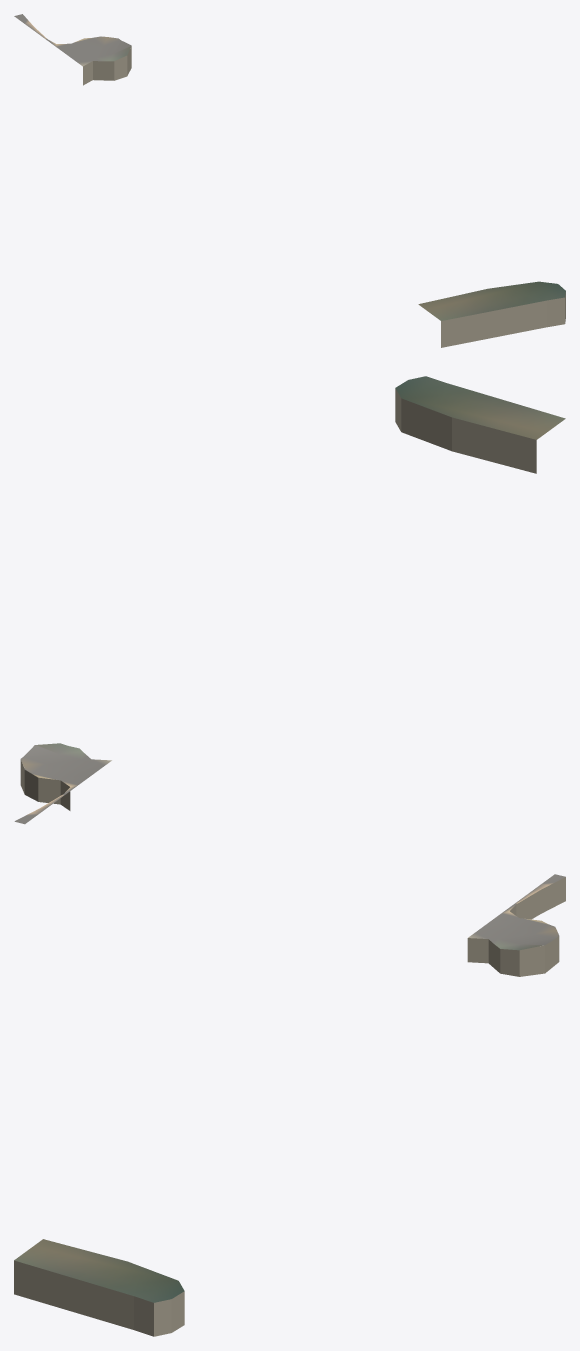
Rendered from terrain.glb.
3 views of the same model, one above another, from view 1: azimuth 30°, elevation 25°; view 2: azimuth 150°, elevation 25°; view 3: azimuth 330°, elevation 25° (orthographic). The views are drawn at different scales.
Visible parts, largest first — view 1: T_E2_N4_terrain; view 2: T_E2_N4_terrain; view 3: T_E2_N4_terrain.
Boxes of the visible parts, bbox=[...] form: T_E2_N4_terrain: bbox=[14, 14, 565, 347]; T_E2_N4_terrain: bbox=[14, 376, 565, 824]; T_E2_N4_terrain: bbox=[14, 874, 565, 1336].
Bounding box in the file's own units: 34.41 × 7 × 205.
